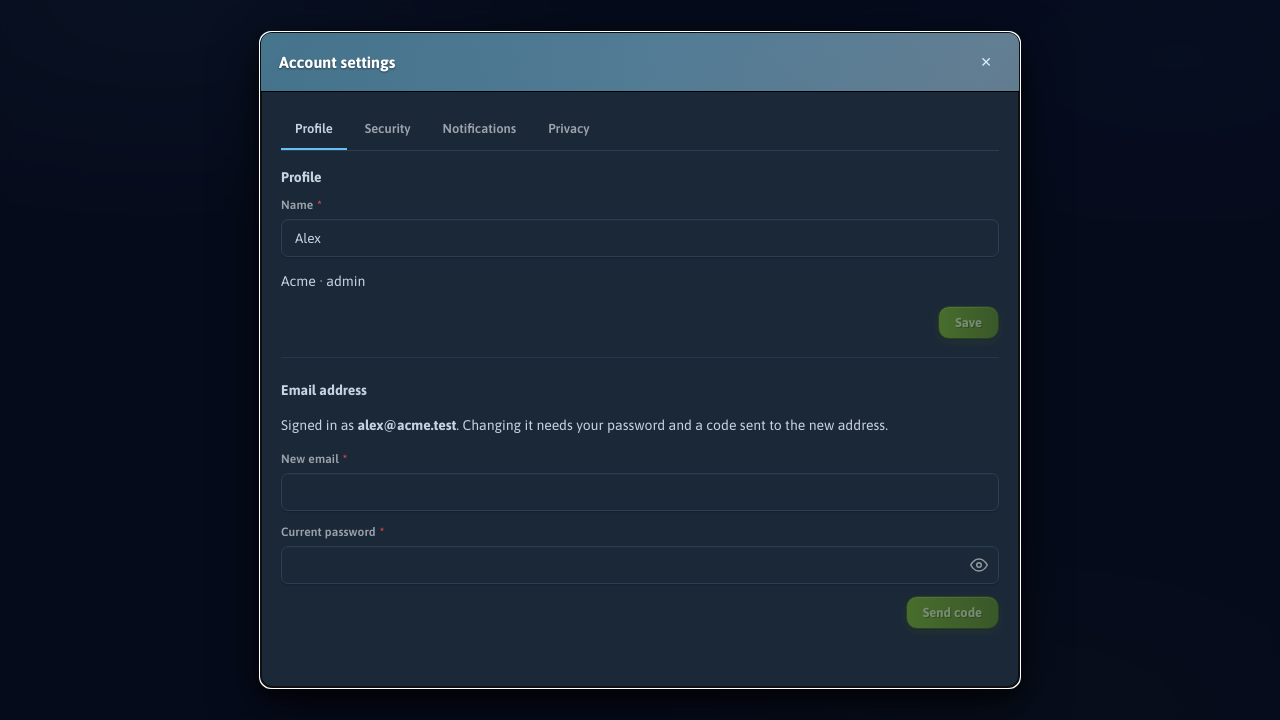
Test: AccountModal › opens on the profile tab and moves between tabs
This screenshot has width=1280, height=720.
Click the tab "Notifications".
click(479, 130)  # box [428,110,530,150]
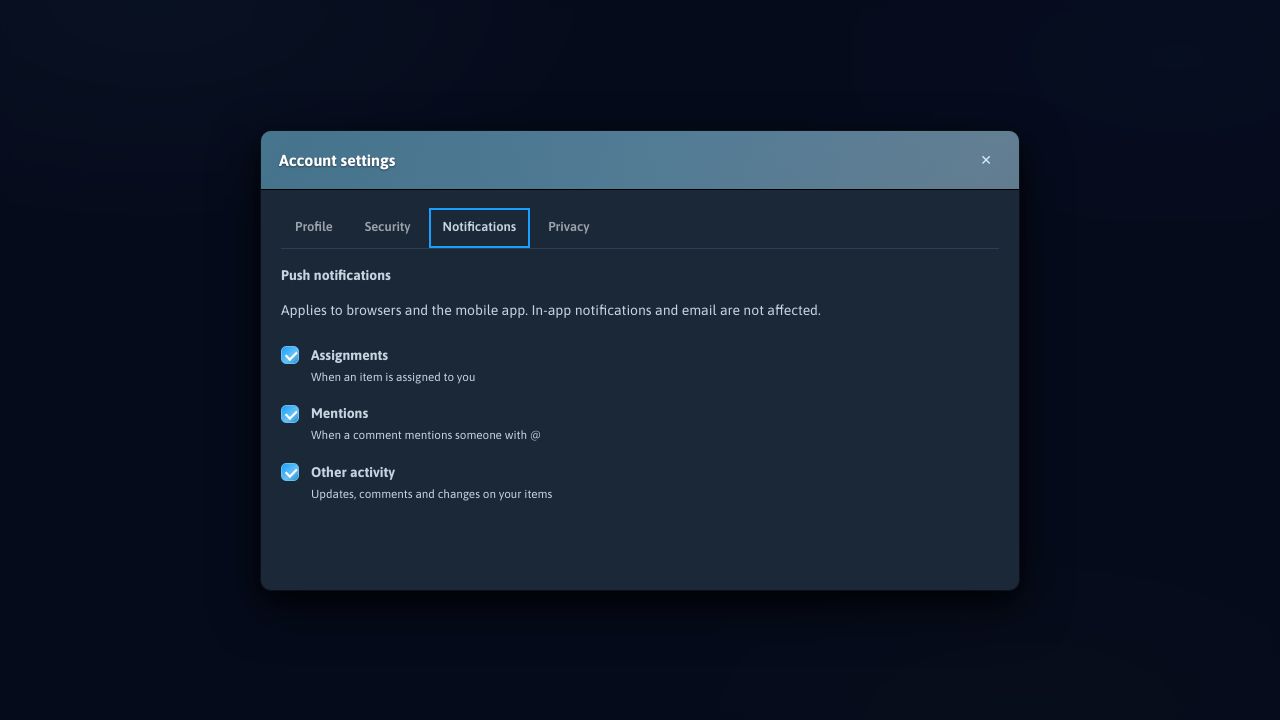
Now the heading "Push notifications" is shown, box [281,266,391,282]
